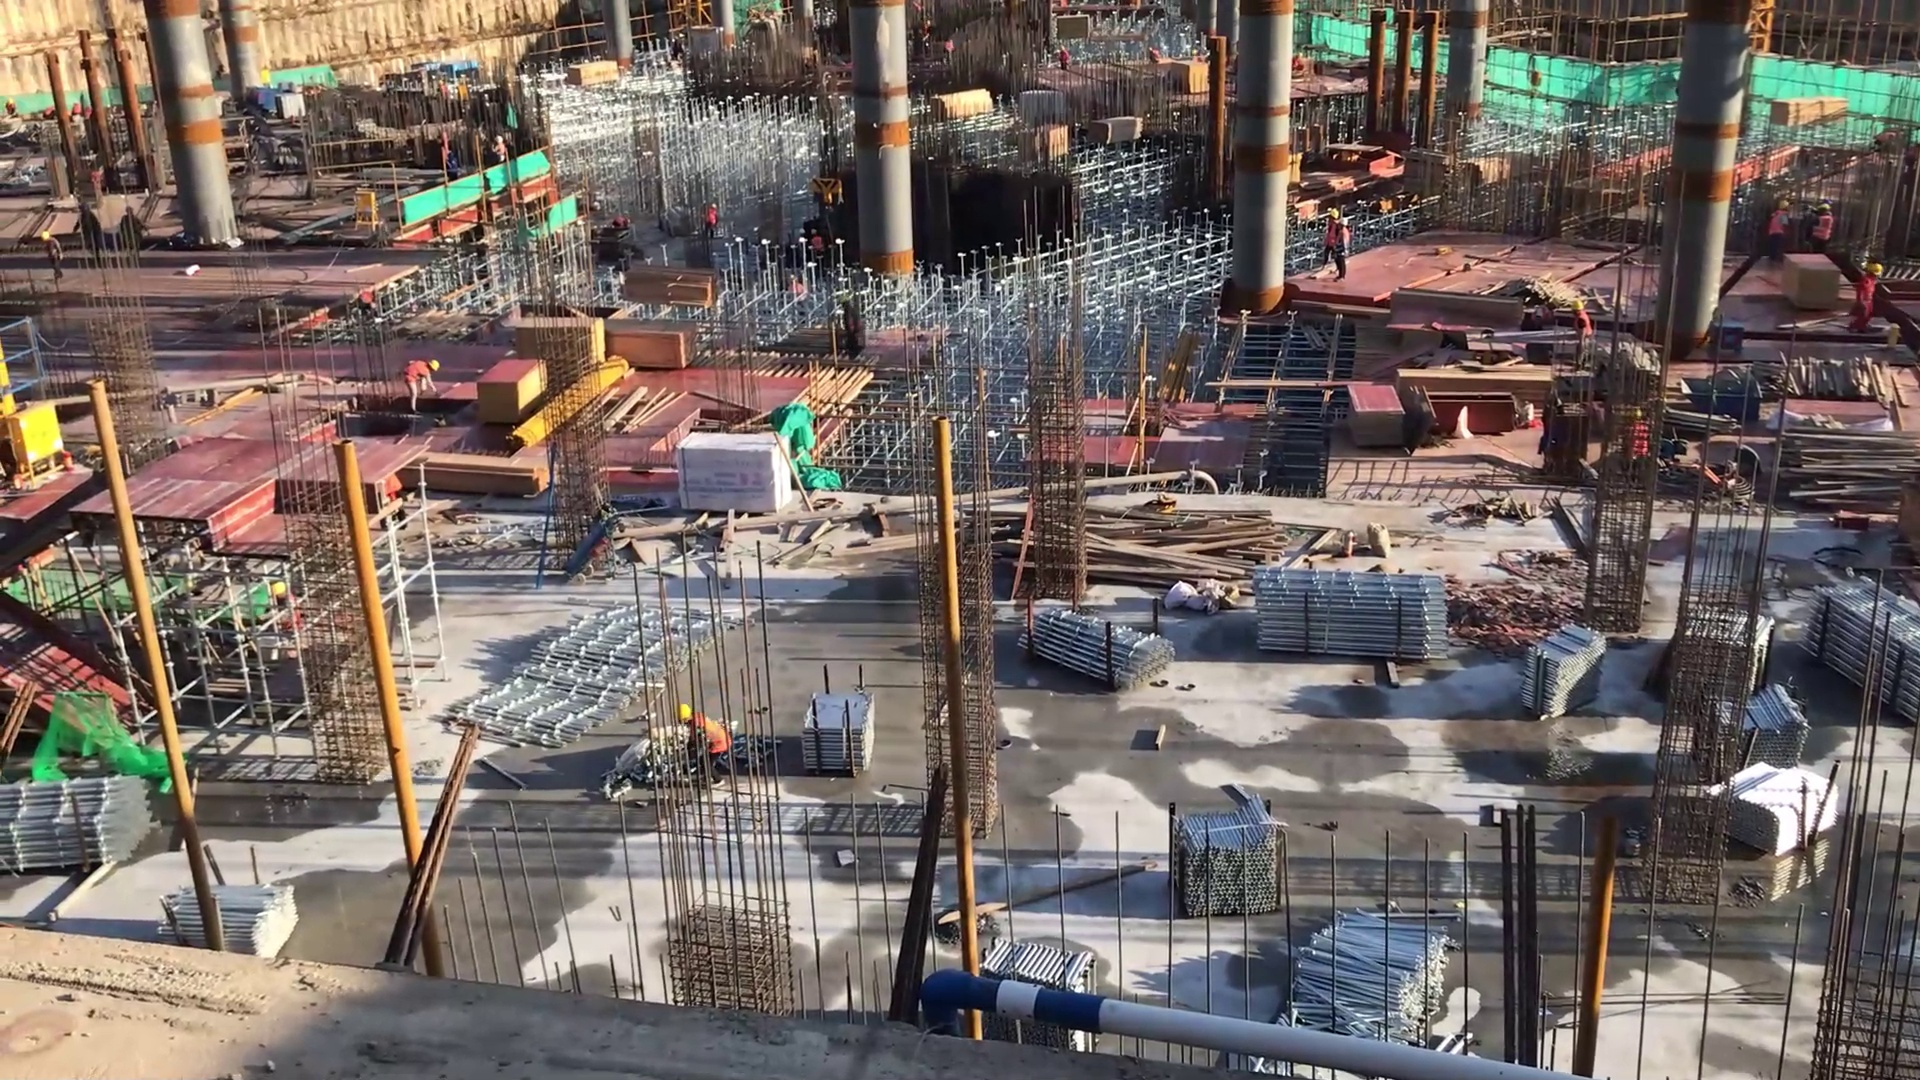board: (477, 354, 549, 427), (514, 317, 607, 373), (1348, 381, 1410, 450), (1169, 59, 1215, 95)
ebox: (6, 394, 68, 502), (351, 185, 385, 239)
helmet: (675, 701, 697, 729), (271, 579, 292, 600), (1570, 296, 1589, 317), (1864, 263, 1885, 281), (1776, 199, 1795, 216), (429, 356, 440, 375), (1328, 208, 1342, 223), (1816, 202, 1831, 215), (1340, 215, 1351, 232), (40, 231, 52, 246), (809, 227, 820, 237), (495, 133, 505, 144), (710, 200, 719, 209)
hook: (1676, 369, 1775, 431)
person: (677, 702, 736, 786), (1850, 257, 1890, 342), (399, 354, 444, 415), (373, 465, 411, 538), (1765, 191, 1792, 272), (1570, 295, 1600, 371), (1810, 198, 1838, 262), (39, 229, 68, 284), (1321, 205, 1343, 274), (1335, 213, 1354, 282), (487, 132, 515, 174), (808, 225, 830, 267), (704, 200, 724, 243), (442, 150, 463, 189), (1058, 43, 1073, 72), (1144, 44, 1163, 67)
scaffold: (1272, 892, 1468, 1059), (1235, 559, 1441, 662), (1806, 566, 1920, 745), (1, 767, 166, 876), (1176, 794, 1279, 924), (1036, 603, 1172, 691), (165, 877, 297, 962), (1525, 603, 1612, 730), (1715, 685, 1805, 788), (976, 937, 1112, 991)
vest: (697, 715, 733, 754), (1856, 276, 1880, 308), (404, 360, 432, 388), (1571, 311, 1595, 341), (1811, 213, 1833, 246), (1336, 225, 1352, 258), (1768, 211, 1788, 238), (445, 156, 459, 177)
wood: (1081, 503, 1283, 595), (1779, 421, 1920, 515), (1386, 358, 1564, 414), (411, 446, 553, 496), (600, 316, 703, 367), (620, 265, 720, 304), (1766, 92, 1851, 139), (923, 85, 999, 123), (1085, 108, 1148, 145), (565, 56, 623, 91)
